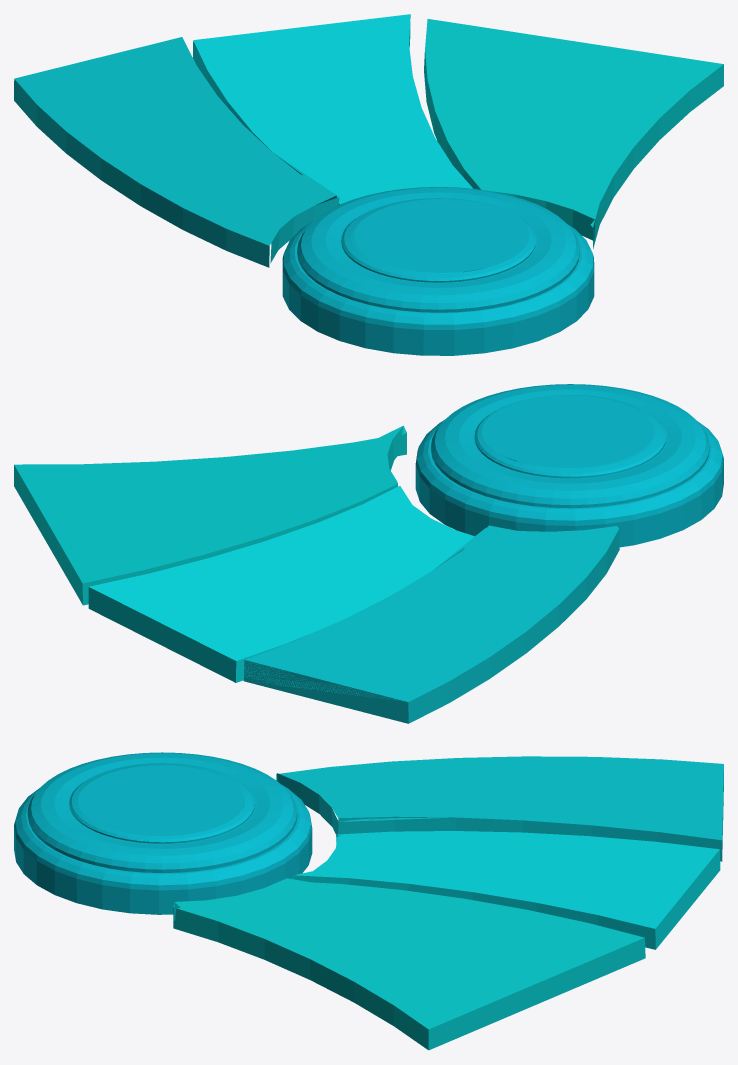
The model's file is menu.fbx.
The picture shows the model from 3 angles, top to bottom: view 1: azimuth 30°, elevation 25°; view 2: azimuth 150°, elevation 25°; view 3: azimuth 270°, elevation 25°; orthographic projection. The views are drawn at different scales.
Parts seen in each view (by area): view 1: Cylinder.001, Cylinder.003, Cylinder.004, Cylinder.002; view 2: Cylinder.001, Cylinder.004, Cylinder.003, Cylinder.002; view 3: Cylinder.003, Cylinder.001, Cylinder.004, Cylinder.002.
Boxes of the visible parts, x1,y1,x2,y2 form: Cylinder.001: [282, 187, 594, 355]; Cylinder.003: [424, 19, 723, 248]; Cylinder.004: [14, 37, 339, 267]; Cylinder.002: [193, 14, 472, 204]; Cylinder.001: [415, 384, 723, 547]; Cylinder.004: [243, 525, 619, 723]; Cylinder.003: [14, 425, 406, 605]; Cylinder.002: [88, 486, 474, 682]; Cylinder.003: [173, 878, 645, 1050]; Cylinder.001: [14, 752, 312, 914]; Cylinder.004: [276, 756, 723, 861]; Cylinder.002: [293, 831, 720, 949].
Size of the model in its own units: 422 by 42.66 by 476.
